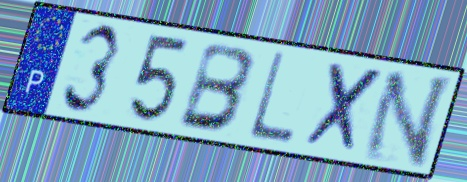3: (58, 22, 131, 117)
5: (123, 31, 195, 125)
B: (175, 39, 259, 135)
L: (245, 49, 297, 147)
N: (357, 70, 457, 170)
X: (301, 59, 389, 158)
